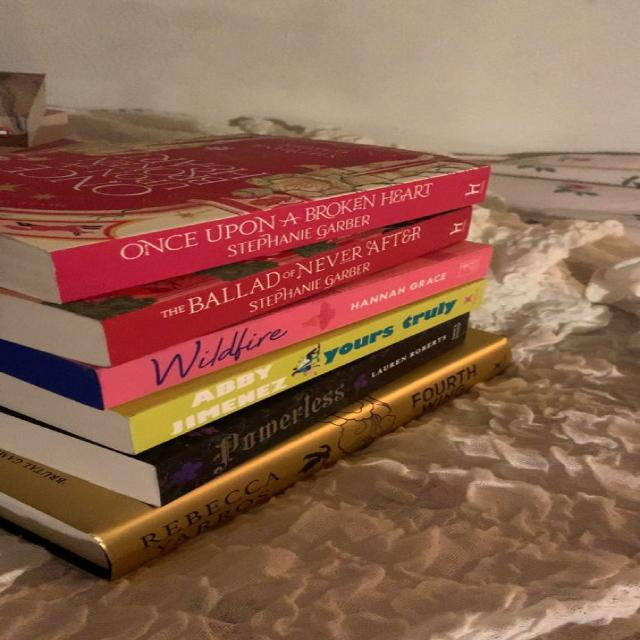book: (94, 336, 510, 581), (100, 245, 489, 411), (131, 280, 486, 454), (48, 167, 489, 305), (158, 314, 466, 506), (101, 208, 468, 366)
